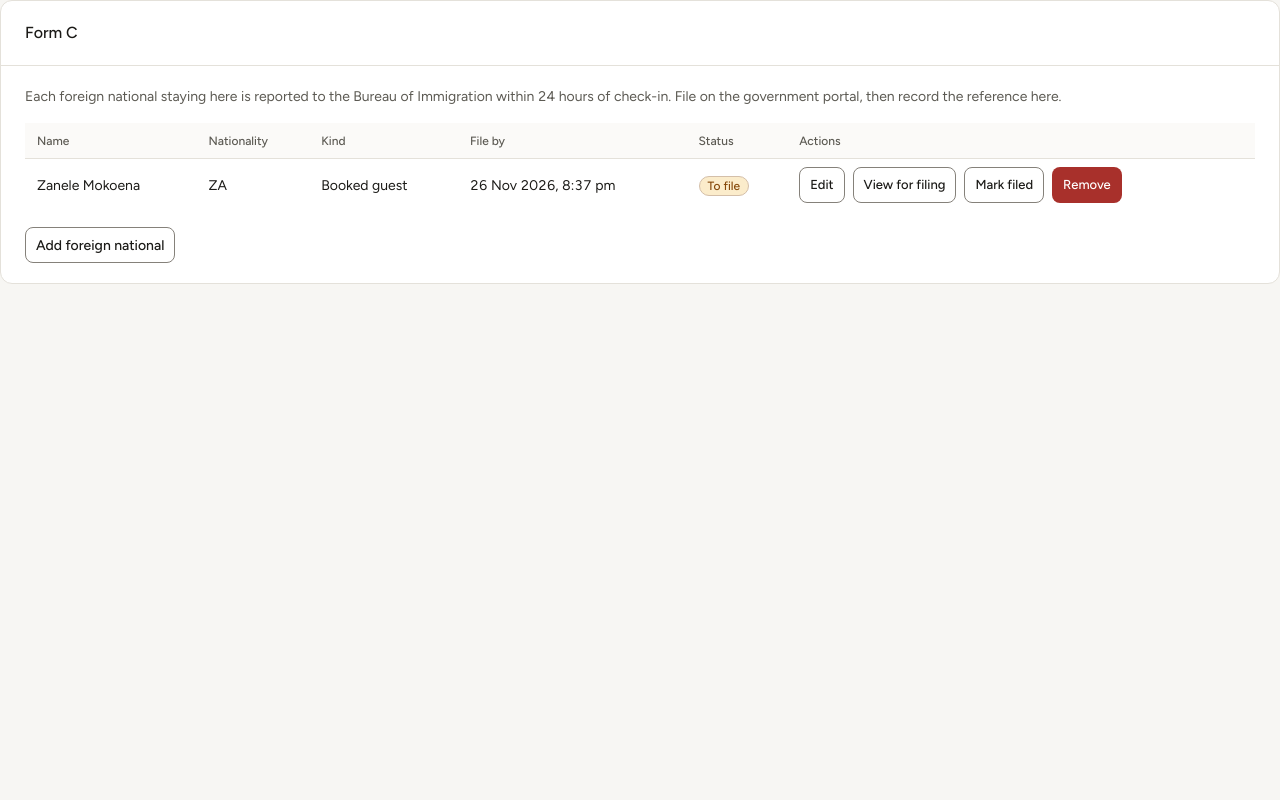
Form C panel on the stay card › opens the audited read to edit saved details and fills the form from it
Click the button with test id "form-c-edit-fcb_res_1": (822, 185) [799,167,845,203]
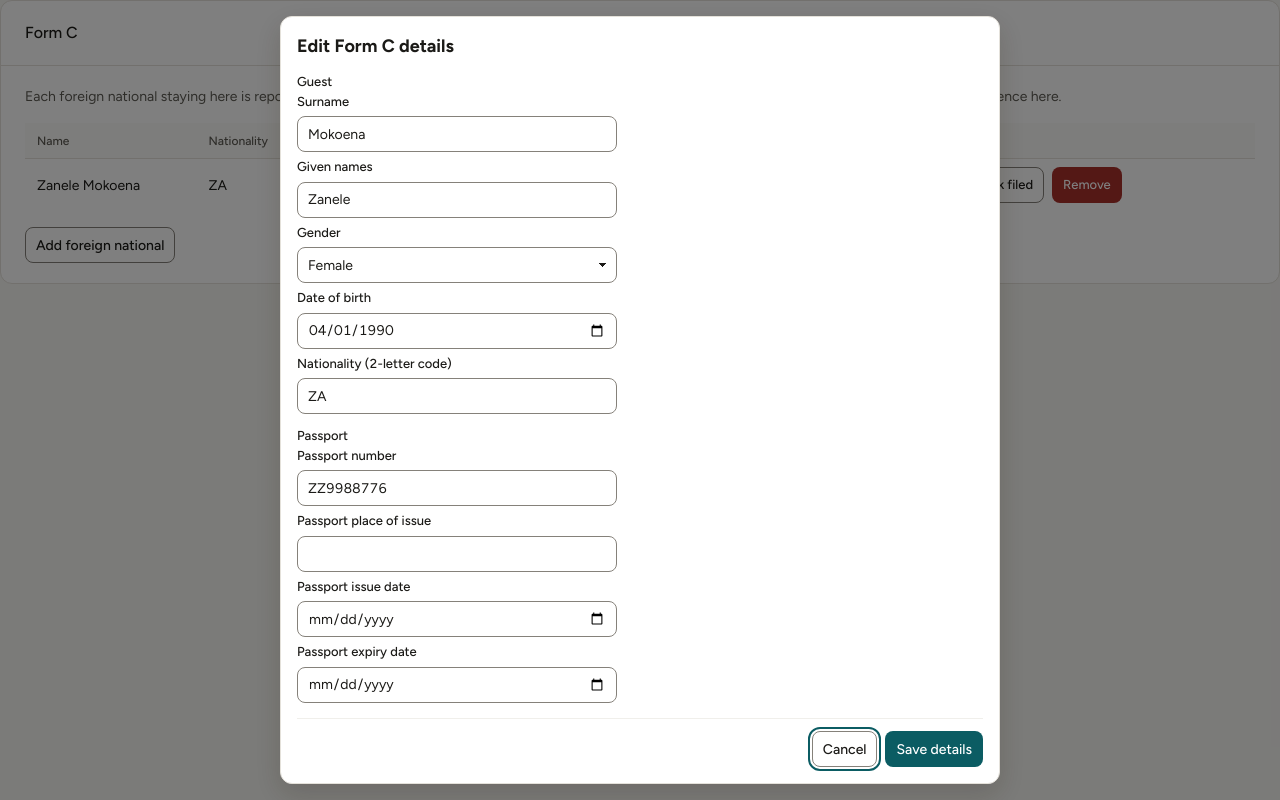
Result: the field with test id "form-c-surname" holds "Mokoena" at [297,116,617,152]
